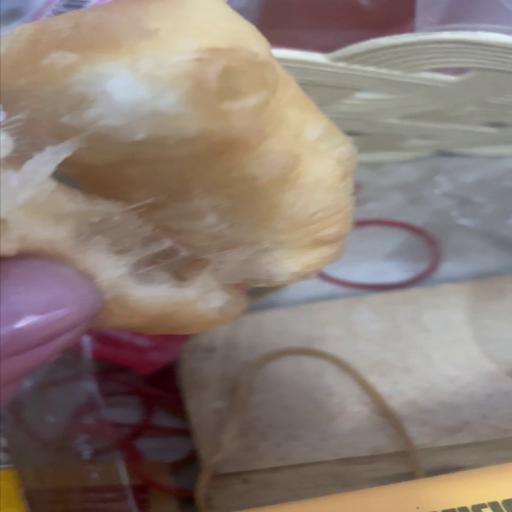street_golden_defect: (2, 0, 356, 351)
